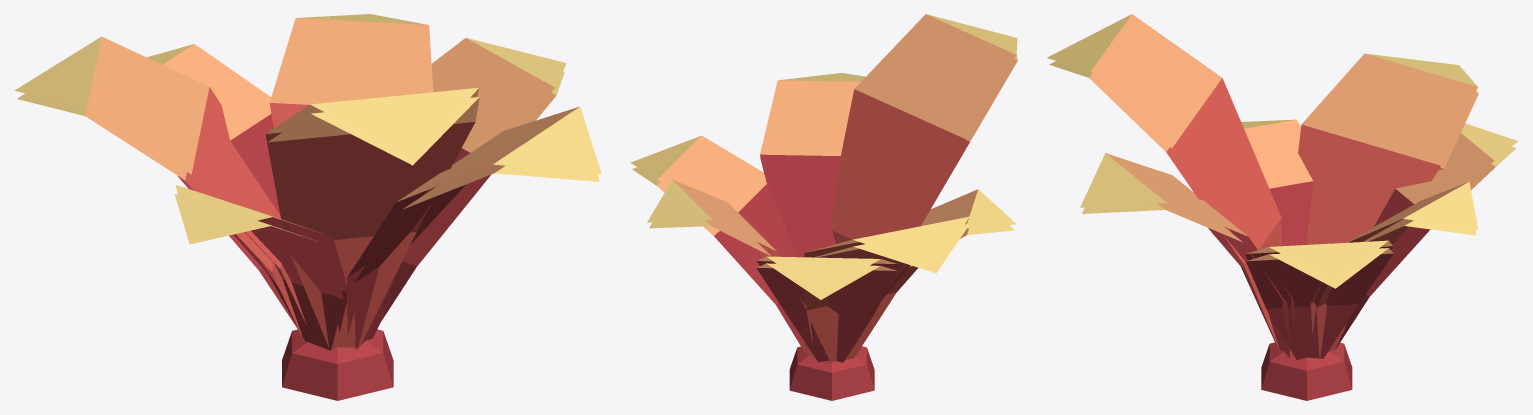
Rendered from plant_fan_red.fbx.
3 renders of one model, left to right at view 1: azimuth 30°, elevation 25°; view 2: azimuth 150°, elevation 25°; view 3: azimuth 270°, elevation 25°, orthographic. The views are drawn at different scales.
Parts seen in each view (by area): view 1: plant_fan_red; view 2: plant_fan_red; view 3: plant_fan_red.
Part boxes in pixels (box(x1,y1,x2,y2)): plant_fan_red: box(14, 14, 601, 400); plant_fan_red: box(630, 14, 1017, 400); plant_fan_red: box(1047, 14, 1518, 400).
Size of the model in its own units: 942 by 717 by 987.
Materials: 1 (1 with a texture image).
